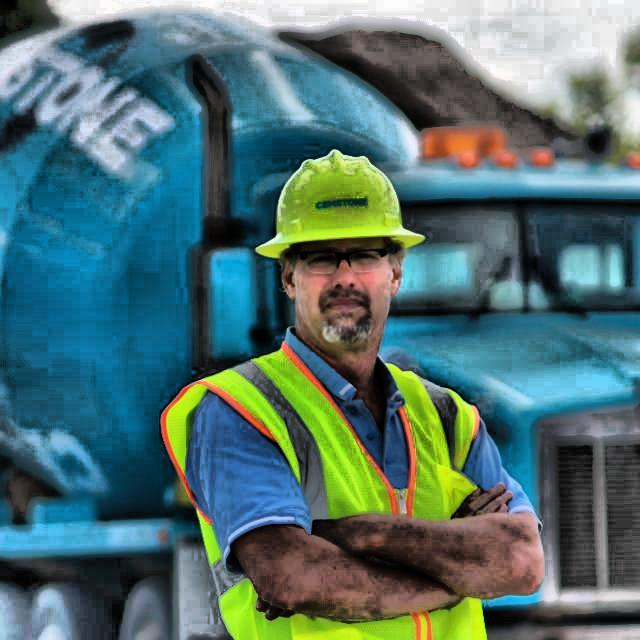person: (158, 146, 569, 640)
